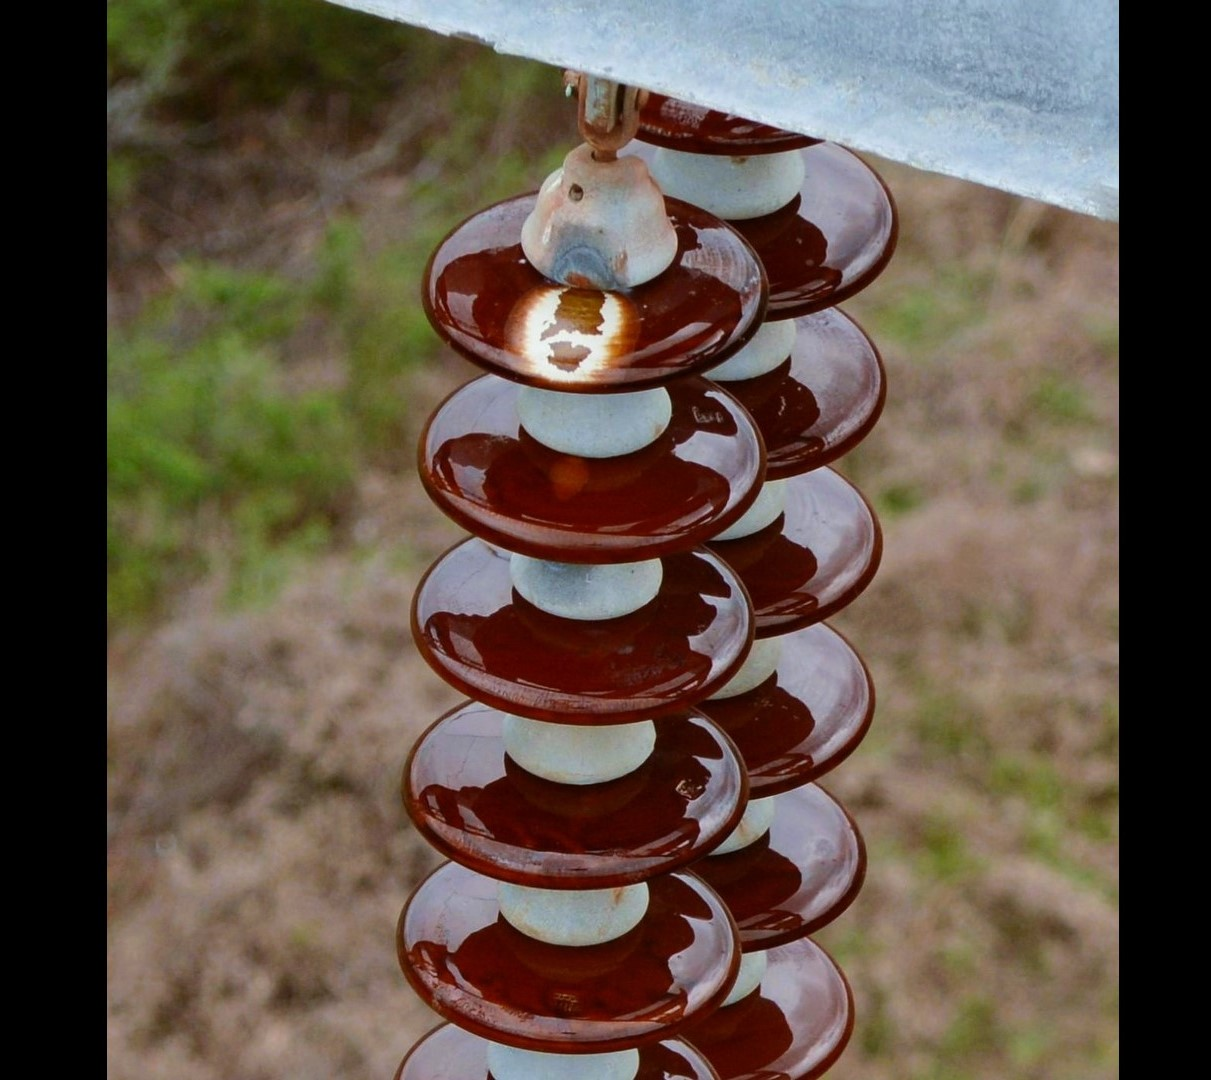Insulator flashover: (412, 177, 779, 396)
